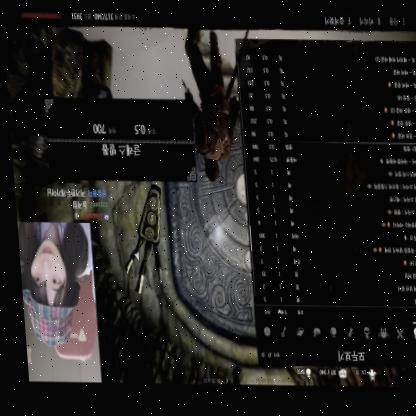streamer: (13, 222, 93, 346)
